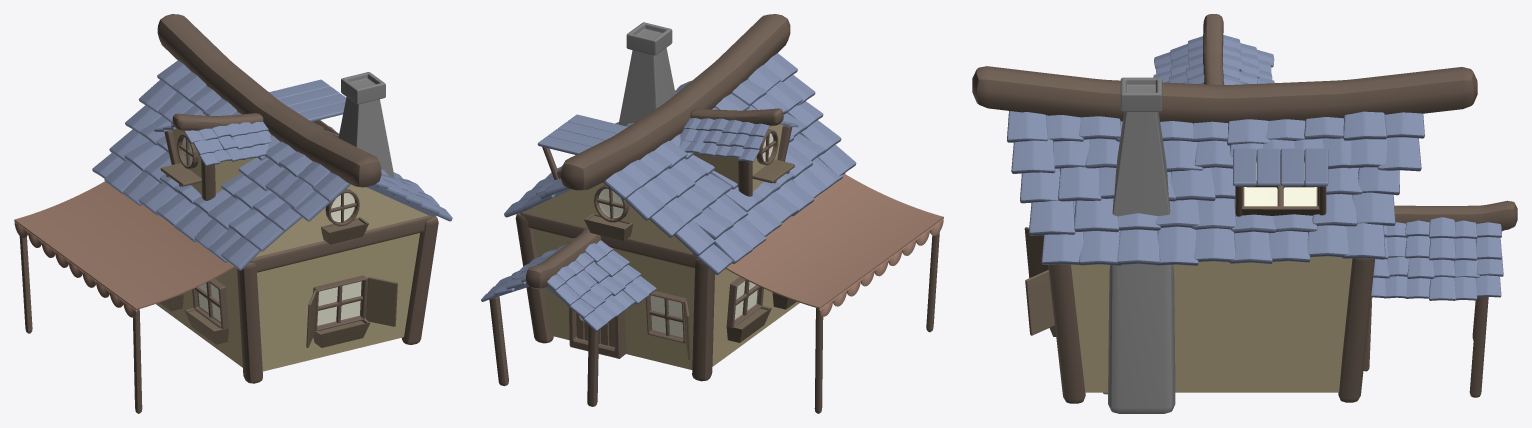
The model's file is GeneralHuis.fbx.
3 views of the same model, side by side, from view 1: azimuth 30°, elevation 25°; view 2: azimuth 150°, elevation 25°; view 3: azimuth 270°, elevation 25° (orthographic). The views are drawn at different scales.
Parts seen in each view (by area): view 1: polySurface2893; view 2: polySurface2893; view 3: polySurface2893.
Boxes of the visible parts, x1,y1,x2,y2 form: polySurface2893: [14, 14, 452, 413]; polySurface2893: [481, 14, 943, 413]; polySurface2893: [972, 14, 1517, 413].
Bounding box in the file's own units: 5.61 × 4.35 × 6.92.
